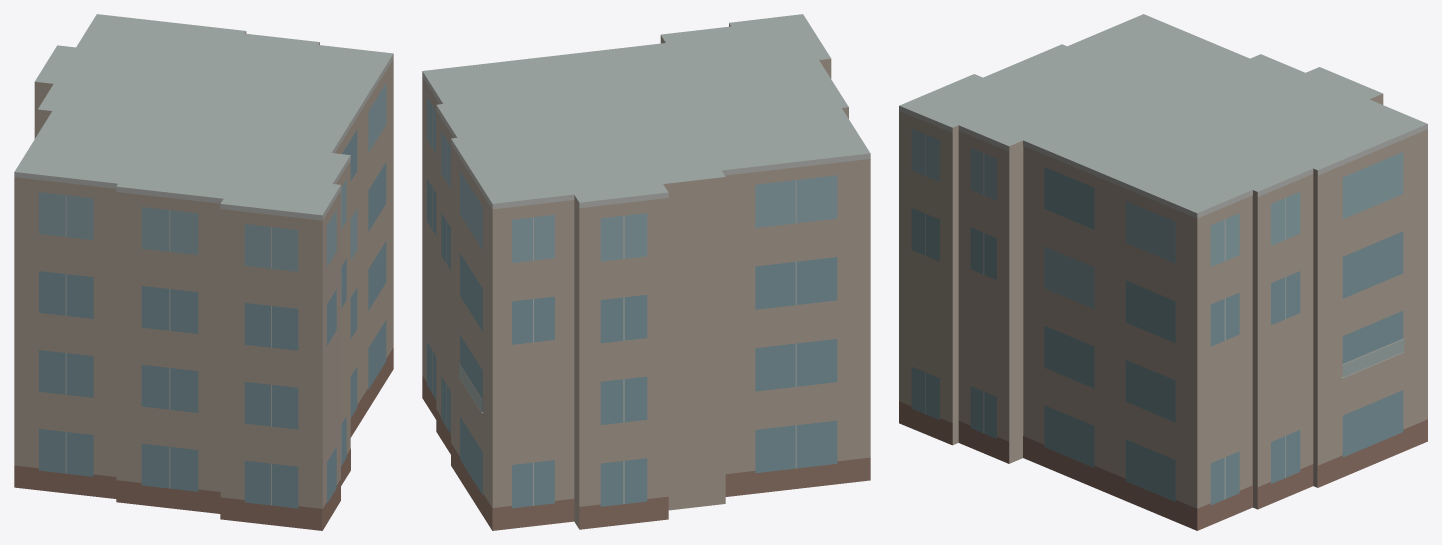
File: survey-upis-32925456.glb
The picture shows the model from 3 angles, left to right: view 1: azimuth 30°, elevation 25°; view 2: azimuth 150°, elevation 25°; view 3: azimuth 270°, elevation 25°; orthographic projection. The views are drawn at different scales.
Visible parts, largest first — view 1: survey-upis-32925456.tmp; view 2: survey-upis-32925456.tmp; view 3: survey-upis-32925456.tmp.
Boxes of the visible parts, <box> form: survey-upis-32925456.tmp: <box>14,14,393,530</box>; survey-upis-32925456.tmp: <box>422,14,870,530</box>; survey-upis-32925456.tmp: <box>899,14,1427,530</box>.
Bounding box in the file's own units: 19.66 × 14.6 × 22.04.
